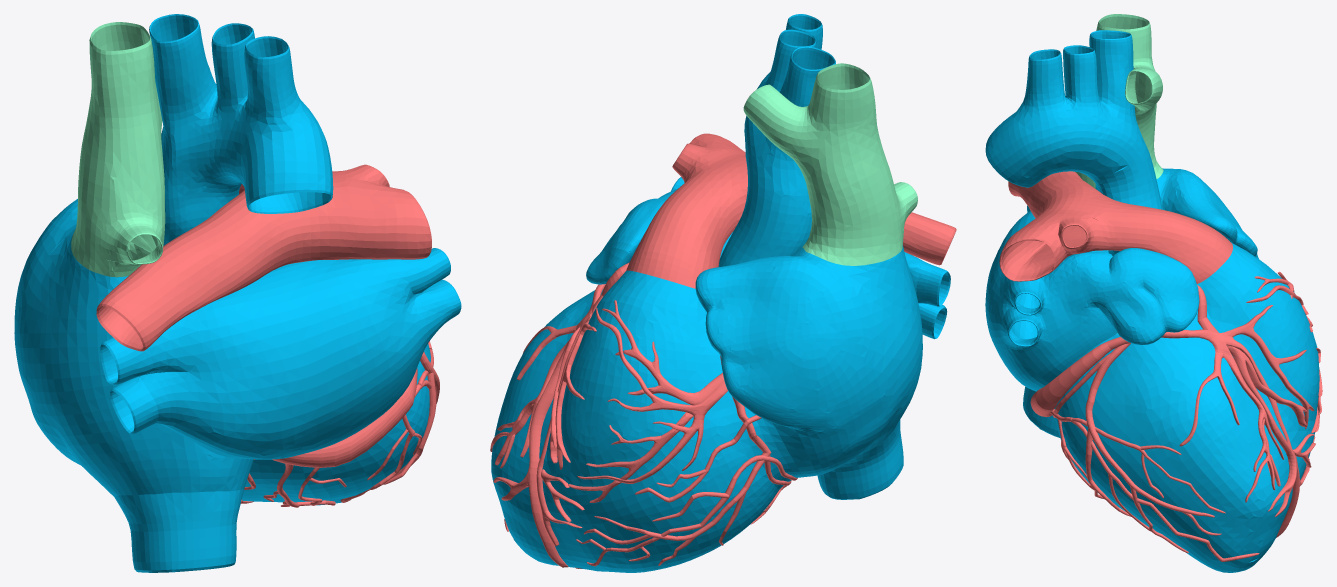
Rendered from heart2.gltf.
3 renders of one model, left to right at view 1: azimuth 30°, elevation 25°; view 2: azimuth 150°, elevation 25°; view 3: azimuth 270°, elevation 25°, orthographic. The views are drawn at different scales.
Visible parts, largest first — view 1: Default-wire_006134006, Default-wire_134110008, Default-wire_134006006; view 2: Default-wire_006134006, Default-wire_134110008, Default-wire_134006006; view 3: Default-wire_006134006, Default-wire_134110008, Default-wire_134006006.
Part boxes in pixels (<box>): Default-wire_006134006: <box>14,14,461,572</box>; Default-wire_134110008: <box>96,164,439,507</box>; Default-wire_134006006: <box>71,22,209,277</box>; Default-wire_006134006: <box>491,14,950,572</box>; Default-wire_134110008: <box>490,133,956,568</box>; Default-wire_134006006: <box>743,63,917,265</box>; Default-wire_006134006: <box>985,30,1319,572</box>; Default-wire_134110008: <box>999,171,1322,561</box>; Default-wire_134006006: <box>1075,14,1163,333</box>.
Bounding box in the file's own units: 5.14 × 7.01 × 4.72.
